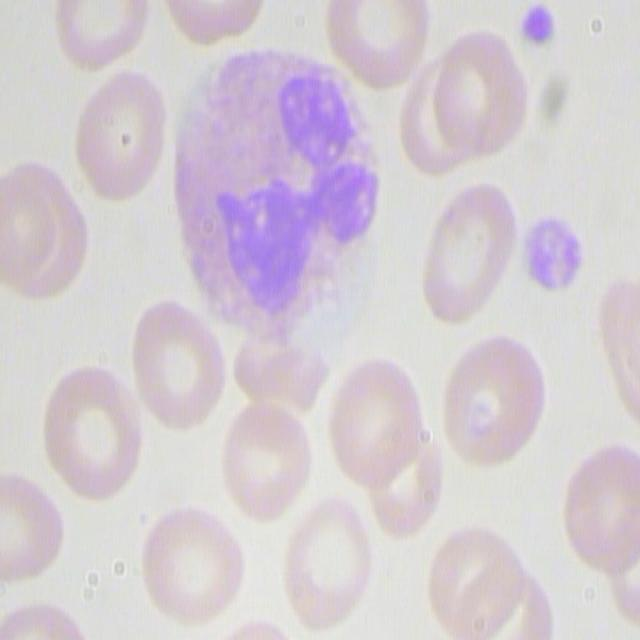RBC: (326, 347, 445, 543), (396, 30, 525, 182), (438, 328, 548, 476), (420, 168, 522, 324), (39, 364, 144, 510), (129, 294, 228, 437), (73, 67, 170, 207), (277, 495, 378, 627), (424, 526, 539, 638), (0, 157, 86, 306), (142, 507, 246, 628), (216, 399, 311, 520), (561, 442, 640, 574), (326, 0, 430, 98), (0, 468, 66, 590), (48, 0, 149, 74), (598, 259, 640, 422), (158, 0, 270, 48), (5, 603, 104, 640), (608, 524, 640, 629)
WBC: (174, 36, 386, 328)
platelets: (519, 198, 589, 305), (517, 2, 561, 54)
